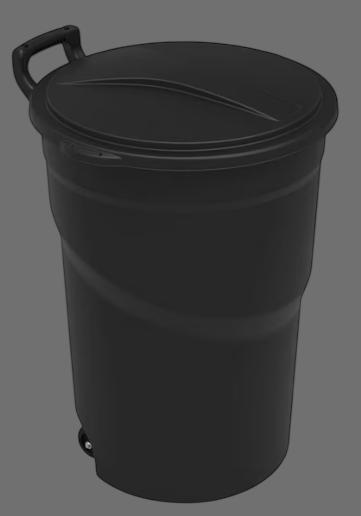garbage container: (8, 19, 345, 508)
